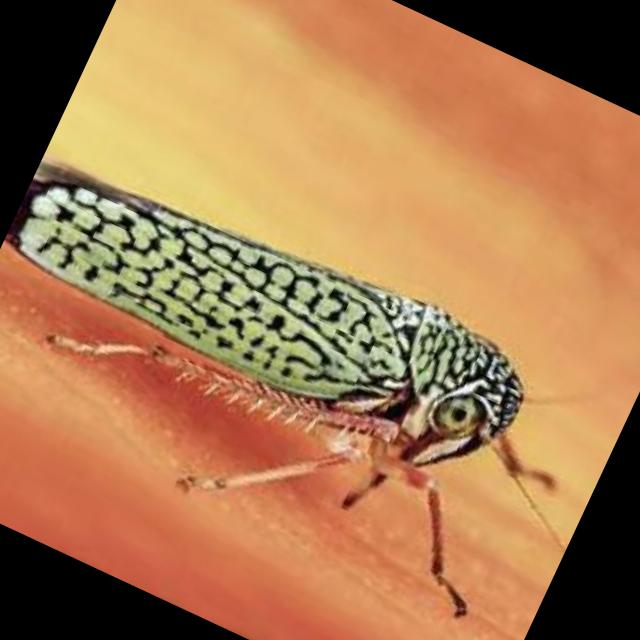green-leafhopper: (5, 159, 560, 617)
